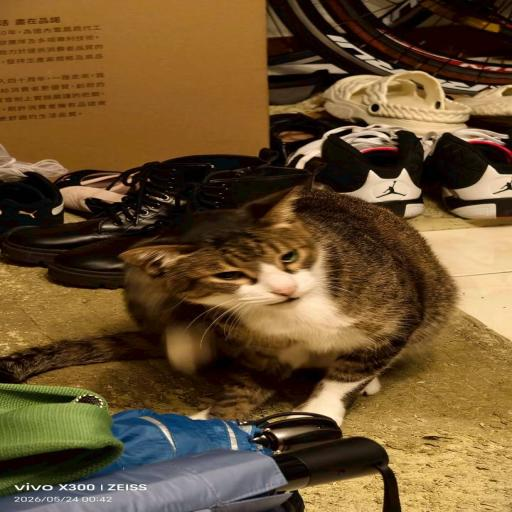cat: (129, 195, 454, 415)
